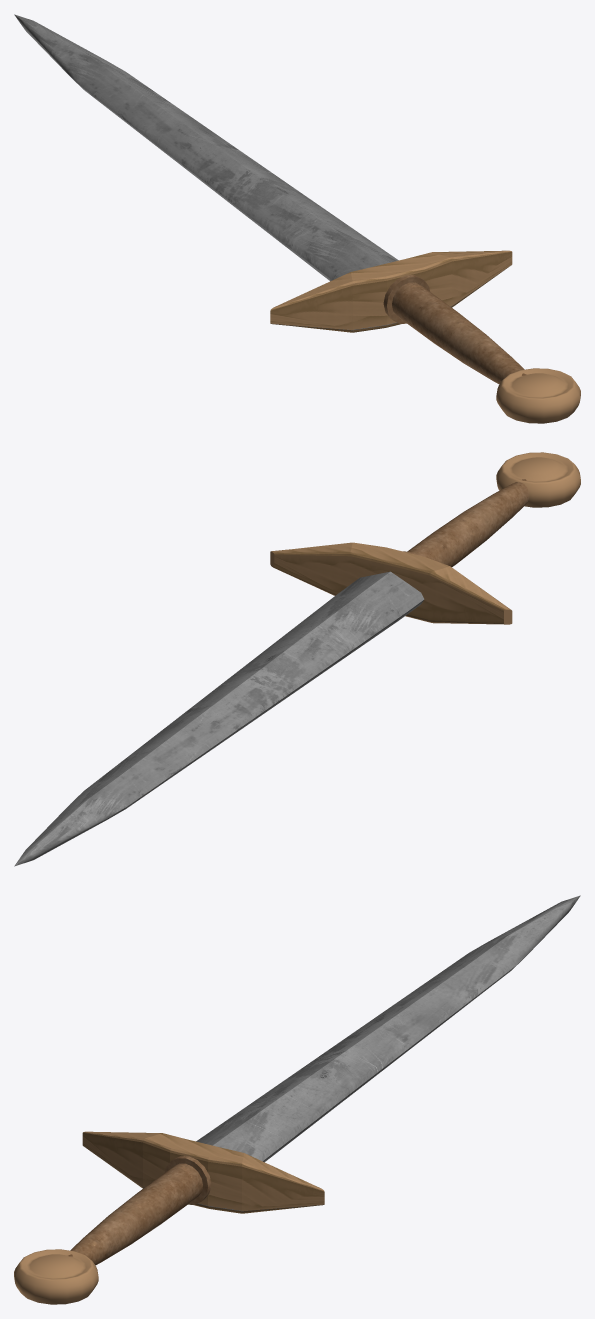
The model's file is Dagger_1.fbx.
3 renders of one model, top to bottom at view 1: azimuth 30°, elevation 25°; view 2: azimuth 150°, elevation 25°; view 3: azimuth 330°, elevation 25°, orthographic.
Visible parts, largest first — view 1: Gladius.009; view 2: Gladius.009; view 3: Gladius.009.
Boxes of the visible parts, x1,y1,x2,y2 form: Gladius.009: [14, 14, 580, 423]; Gladius.009: [14, 452, 580, 866]; Gladius.009: [14, 895, 580, 1304].
Bounding box in the file's own units: 18.62 × 3.79 × 72.85.
